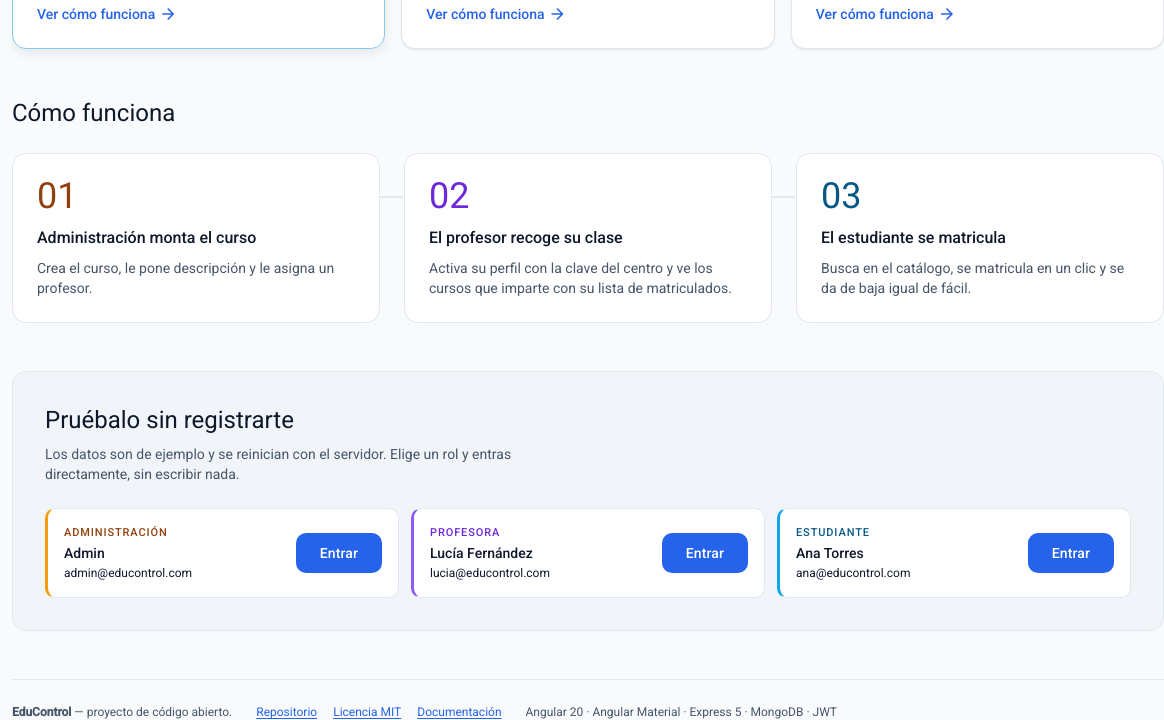
LandingComponent › si el login de demostración falla, lo dice y no navega
The width and height of the screenshot is (1164, 720).
(page scrolled)
Click the button "Entrar" at [339, 553], box [296, 533, 382, 573]
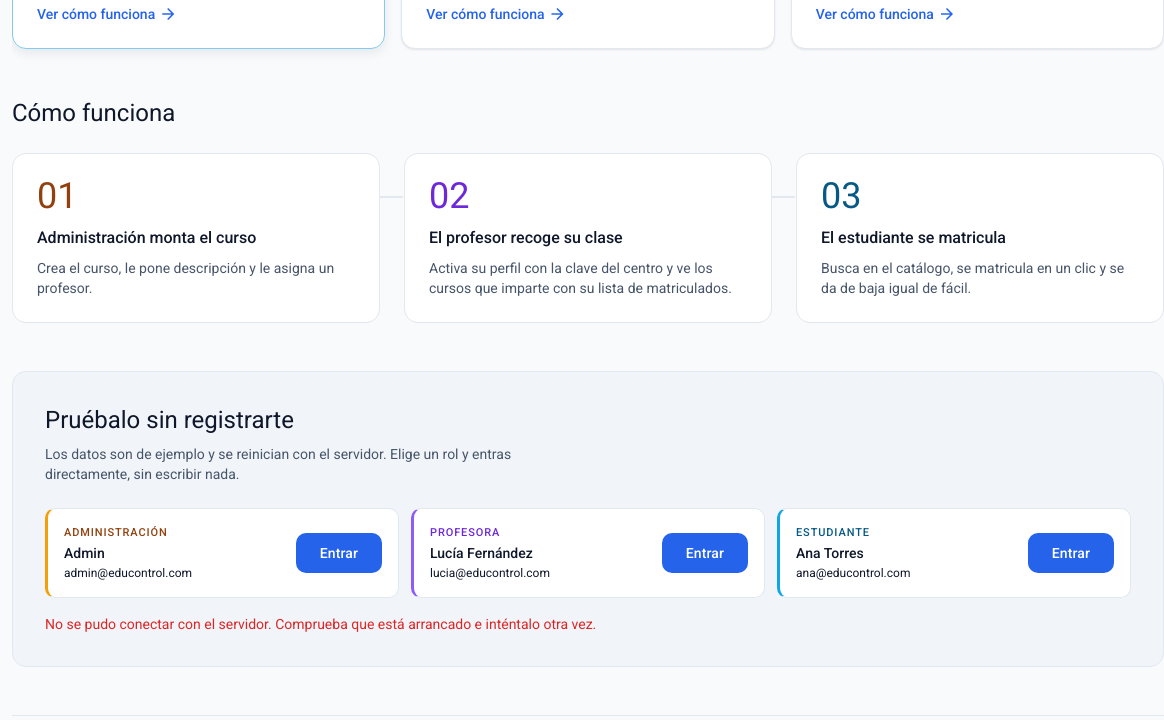
expect the message with class "demo__error" shows "No se pudo conectar": met, box [45, 616, 596, 632]
